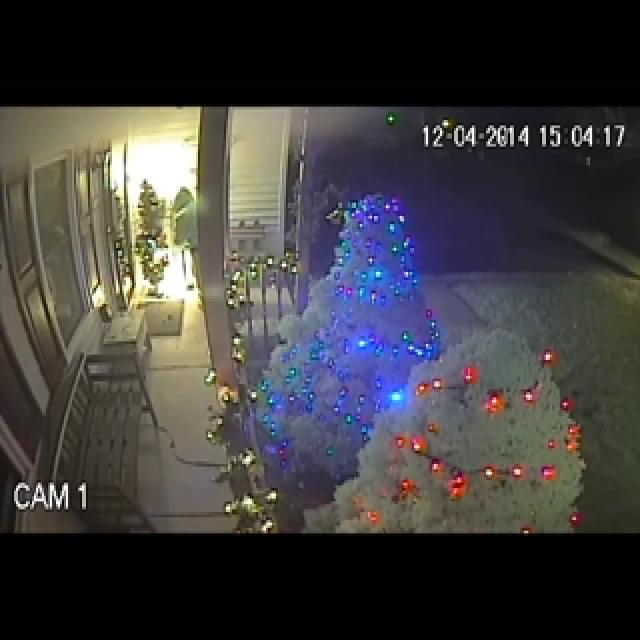arson: (32, 125, 345, 452)
